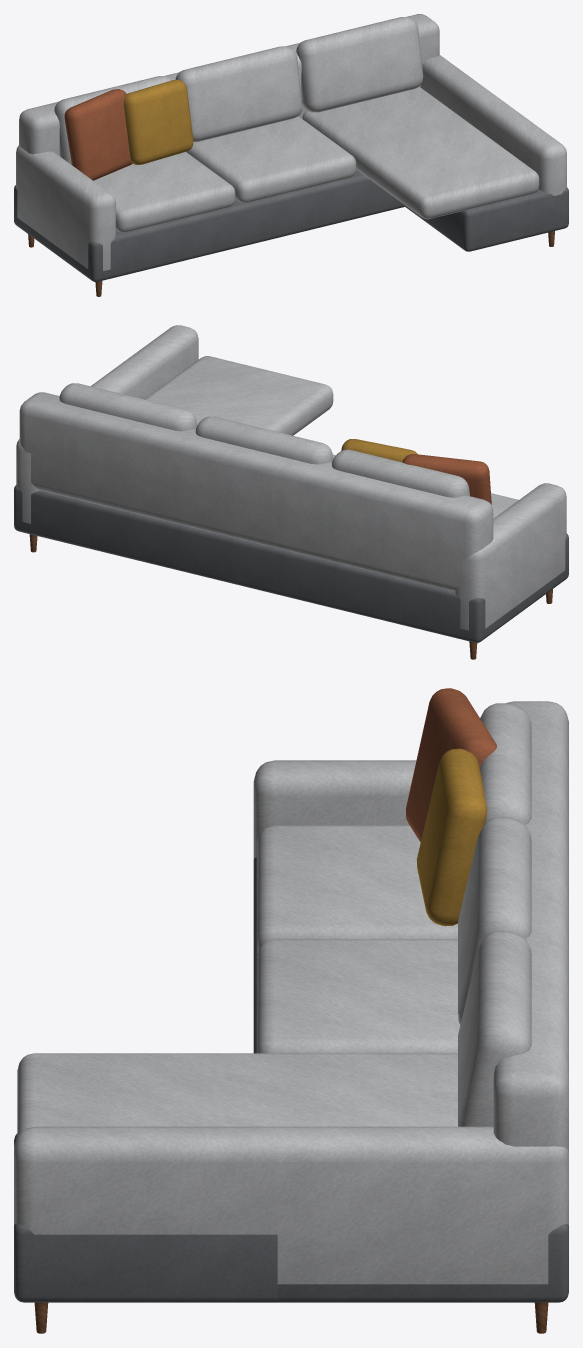
File: sectional-sofa.glb
The picture shows the model from 3 angles, top to bottom: view 1: azimuth 30°, elevation 25°; view 2: azimuth 150°, elevation 25°; view 3: azimuth 270°, elevation 25°; orthographic projection. The views are drawn at different scales.
Parts seen in each view (by area): view 1: Modern_Sectional_Sofa; view 2: Modern_Sectional_Sofa; view 3: Modern_Sectional_Sofa.
Boxes of the visible parts, x1=… form: Modern_Sectional_Sofa: x1=14, y1=14, x2=568, y2=296; Modern_Sectional_Sofa: x1=14, y1=325, x2=568, y2=659; Modern_Sectional_Sofa: x1=14, y1=688, x2=568, y2=1333.
Size of the model in its own units: 2.7 by 0.9412 by 1.62.
Materials: 5 (5 with a texture image).
